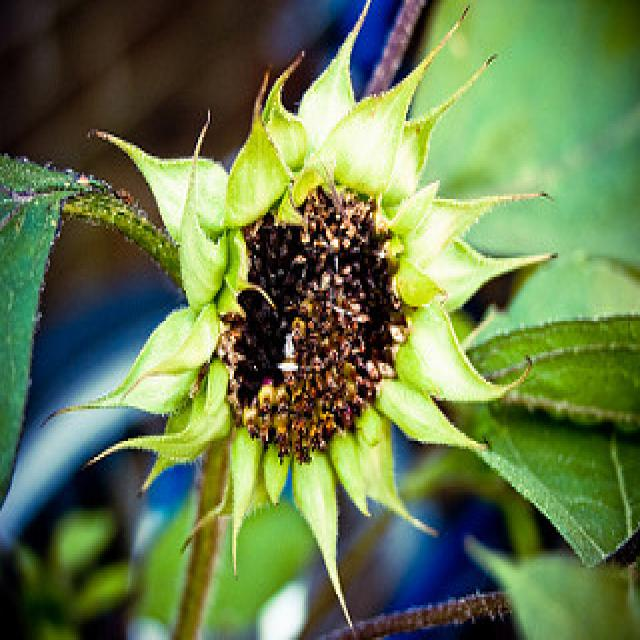sunflower: (90, 6, 552, 610)
